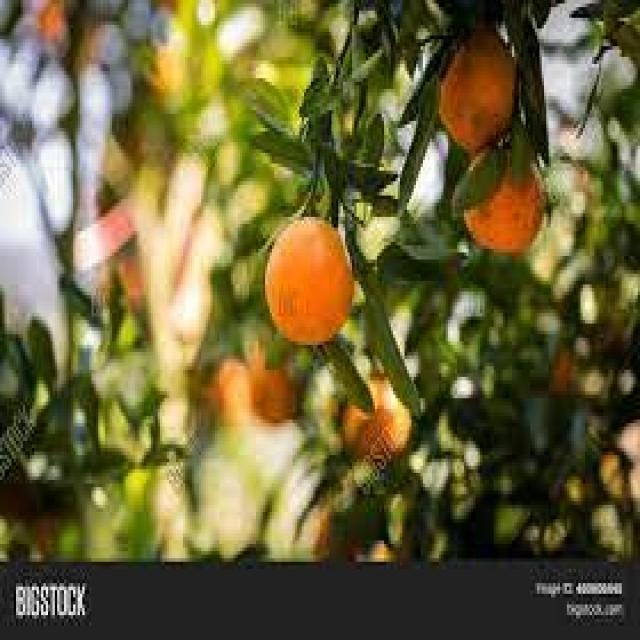fruit: (247, 352, 307, 438)
